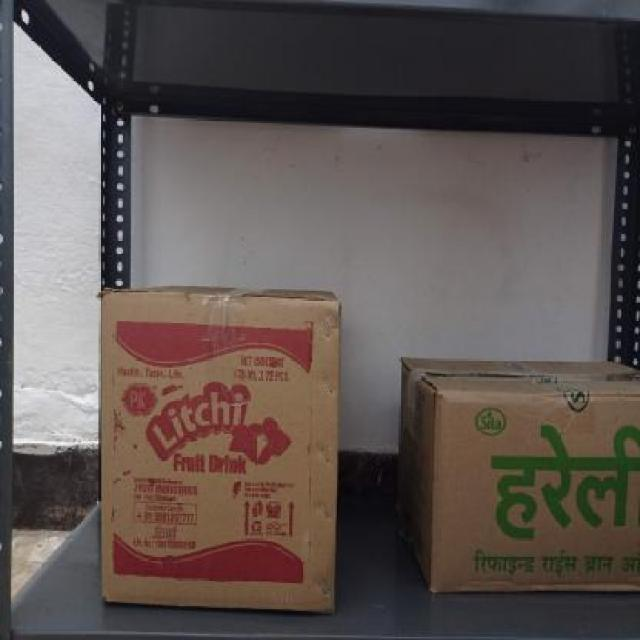box: (97, 284, 337, 616), (432, 388, 640, 596)
